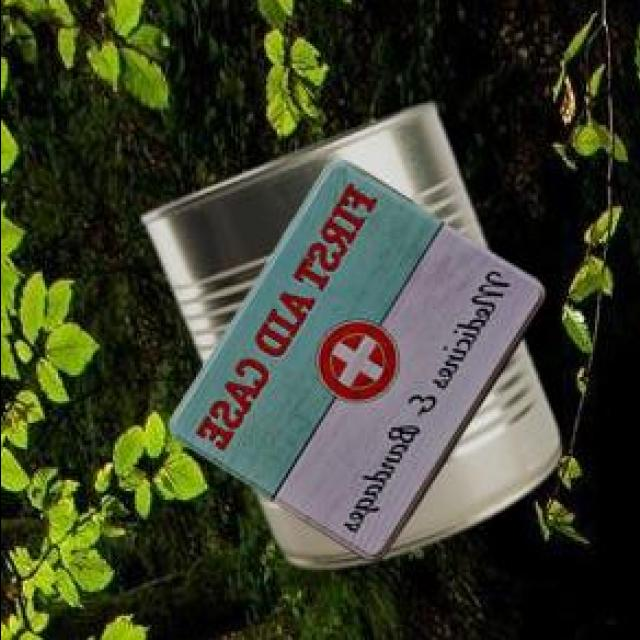logam: (139, 102, 556, 564), (165, 157, 542, 556)
